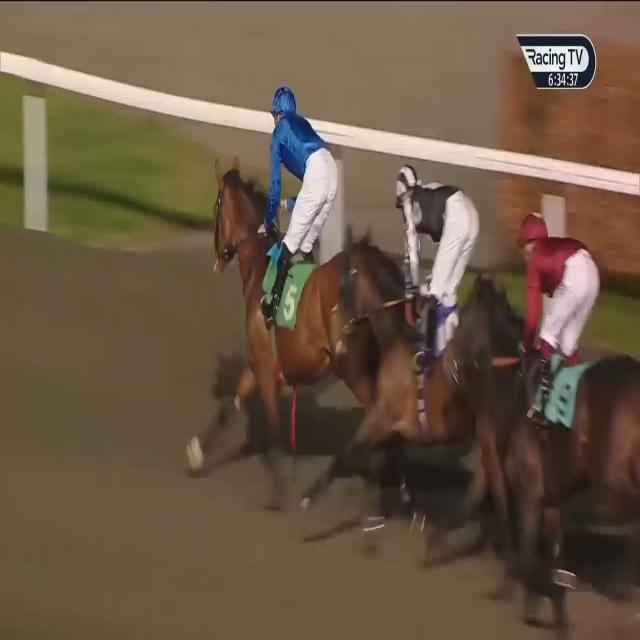horses-racing: (448, 212, 640, 568), (212, 95, 369, 472), (342, 165, 488, 492)
